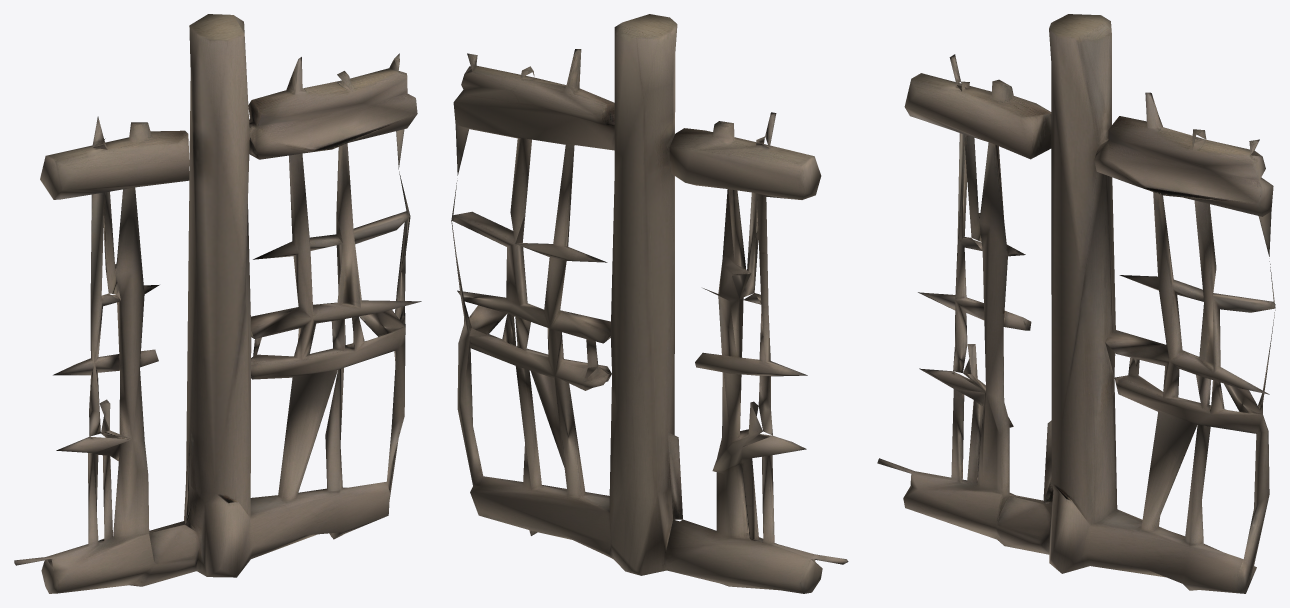
File: FencePost.glb
3 views of the same model, side by side, from view 1: azimuth 30°, elevation 25°; view 2: azimuth 150°, elevation 25°; view 3: azimuth 330°, elevation 25° (orthographic).
Size of the model in its own units: 1.54 by 2 by 0.2462.
1 material, 1 textured.
